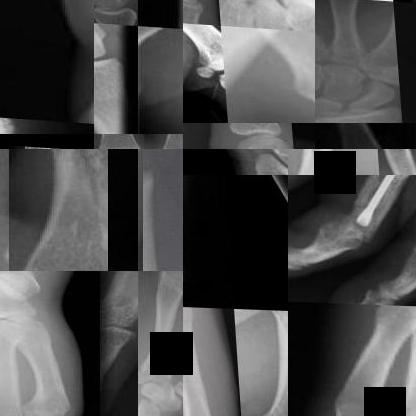fracture: (47, 149, 108, 239), (343, 175, 415, 234), (381, 318, 415, 415), (315, 98, 400, 122), (230, 0, 292, 27), (143, 149, 172, 205), (232, 307, 263, 339), (341, 161, 378, 174), (226, 123, 281, 130)
